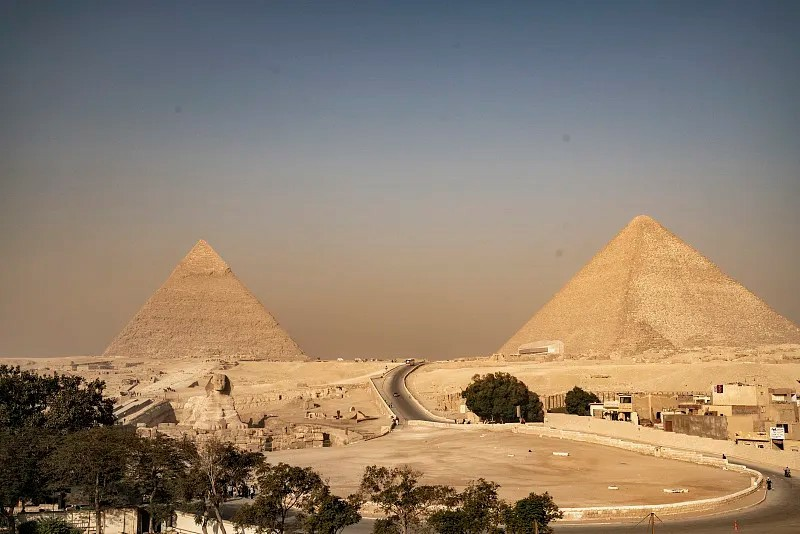Pyramid: (498, 215, 800, 363), (102, 239, 311, 364)
